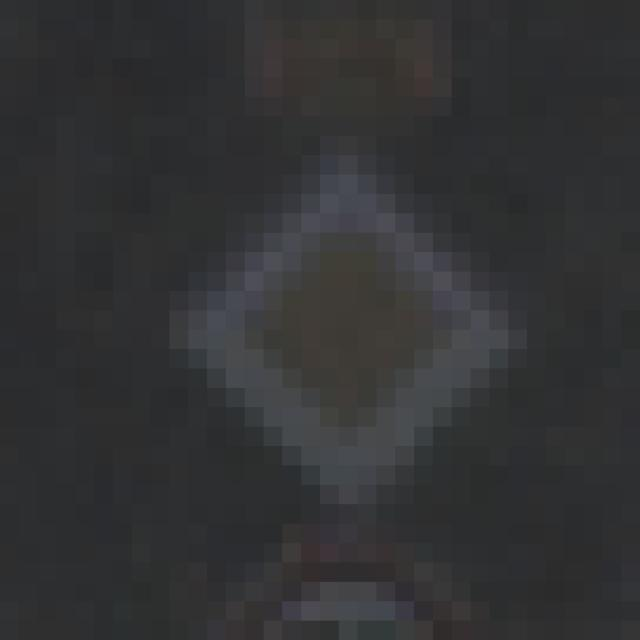Main Road: (114, 98, 547, 544)
